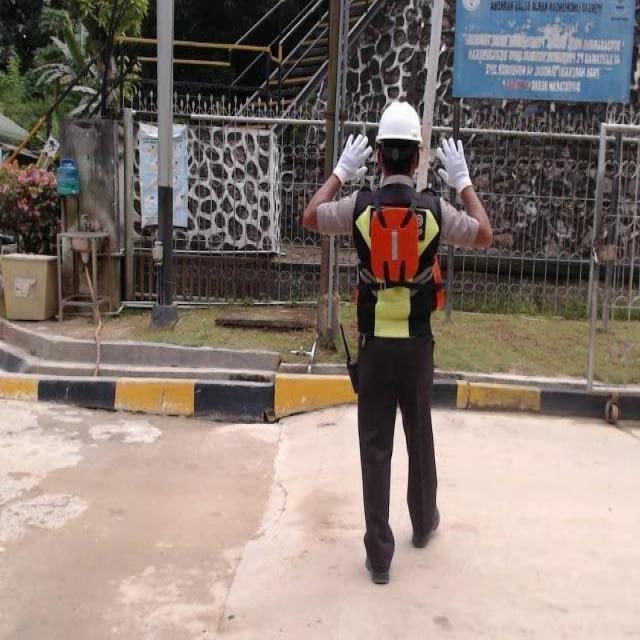helmet: (370, 96, 435, 140)
jacket: (344, 184, 448, 369)
